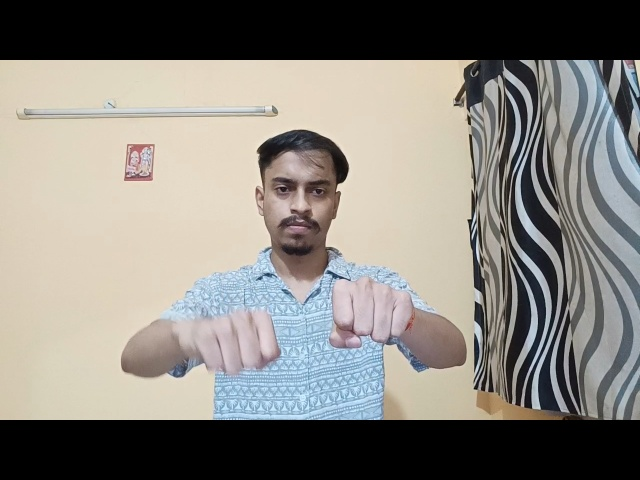Yes: (309, 266, 435, 369)
